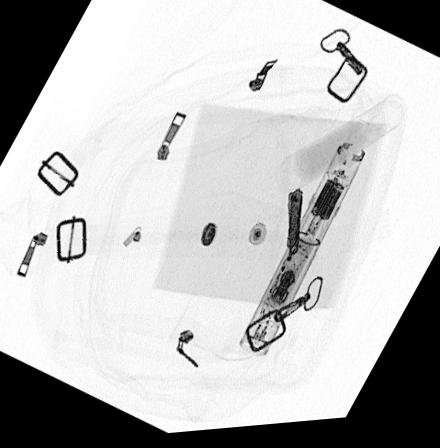Baton: (236, 148, 366, 362)
